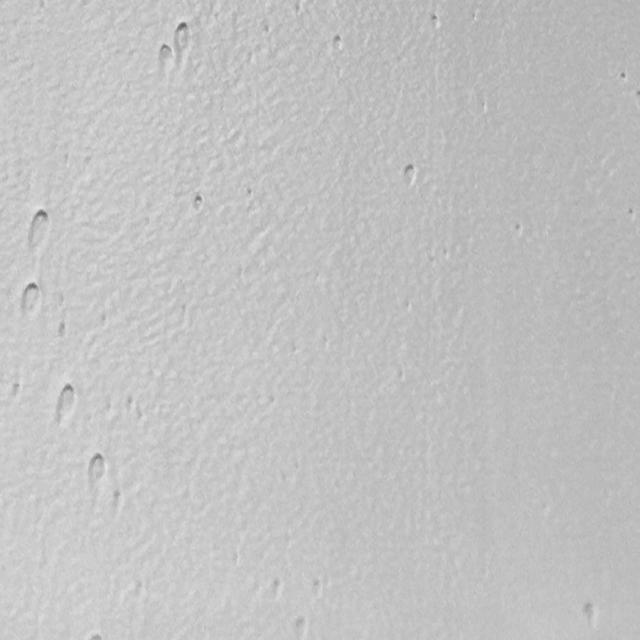pin holes: (25, 208, 56, 256), (55, 384, 79, 423), (172, 21, 195, 60), (19, 280, 43, 316), (85, 450, 109, 485), (580, 598, 602, 630), (154, 42, 175, 73), (399, 162, 420, 189), (290, 614, 311, 639), (267, 577, 287, 602), (111, 488, 128, 515), (189, 192, 208, 216), (307, 575, 325, 600), (56, 319, 67, 348), (331, 35, 346, 56), (11, 380, 25, 400), (431, 14, 444, 33), (125, 397, 137, 416), (511, 222, 525, 238), (618, 68, 631, 85), (625, 206, 638, 222)
